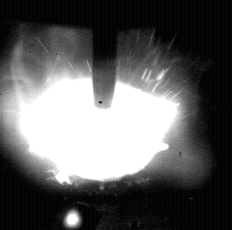arame: (93, 0, 116, 110)
poca: (18, 0, 172, 230)
